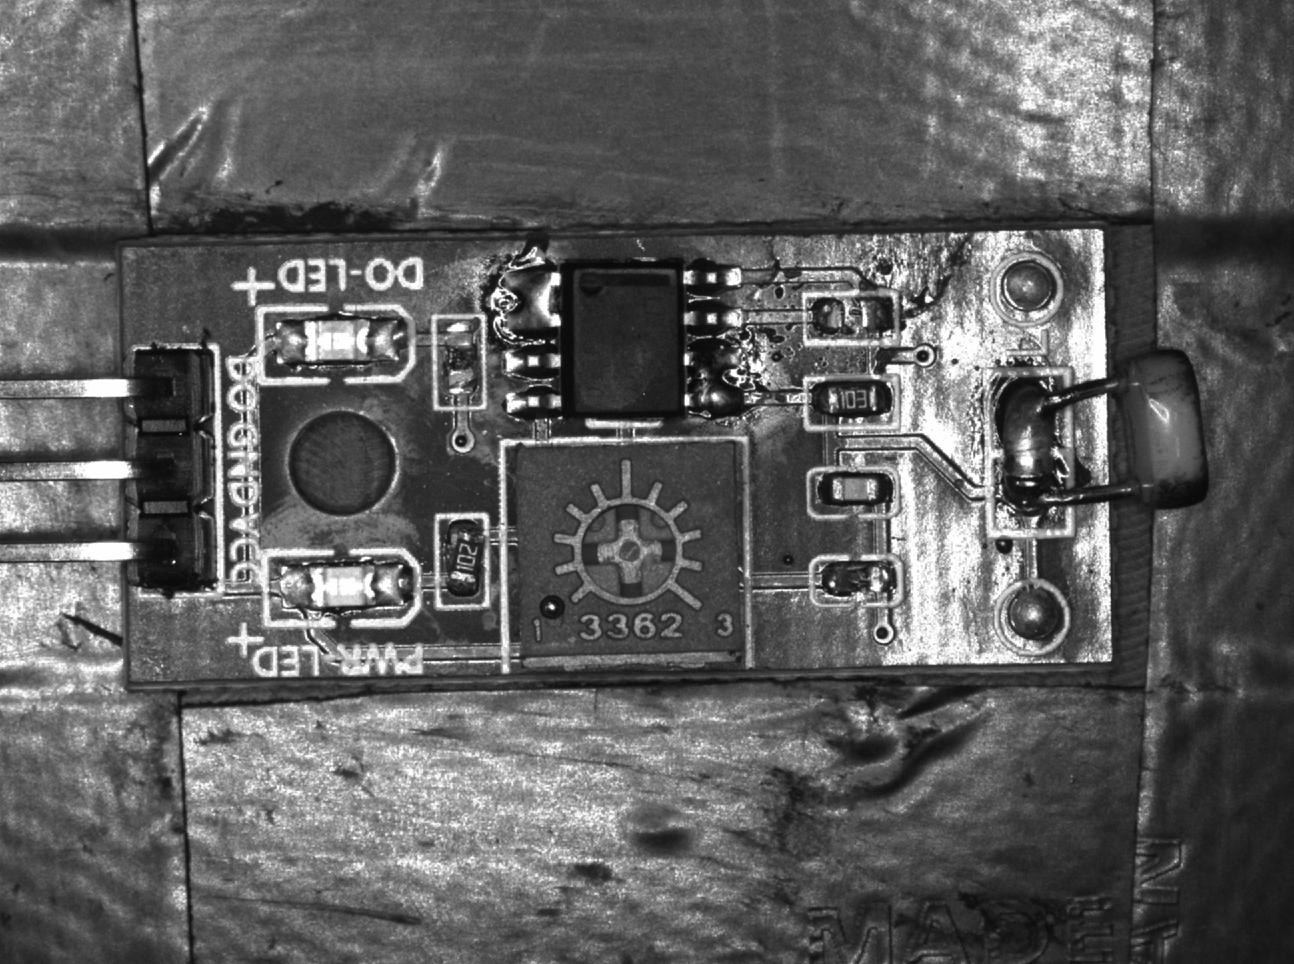bridge: (984, 370, 1077, 541), (496, 267, 560, 344), (693, 336, 750, 421)
lifted: (439, 511, 491, 613)
miss: (809, 293, 903, 343), (816, 561, 904, 606), (441, 323, 486, 401)
ok: (801, 378, 908, 438), (808, 468, 901, 523)
